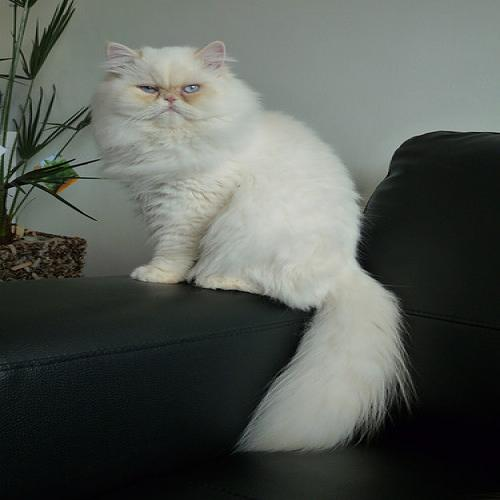persian: (92, 32, 247, 145)
